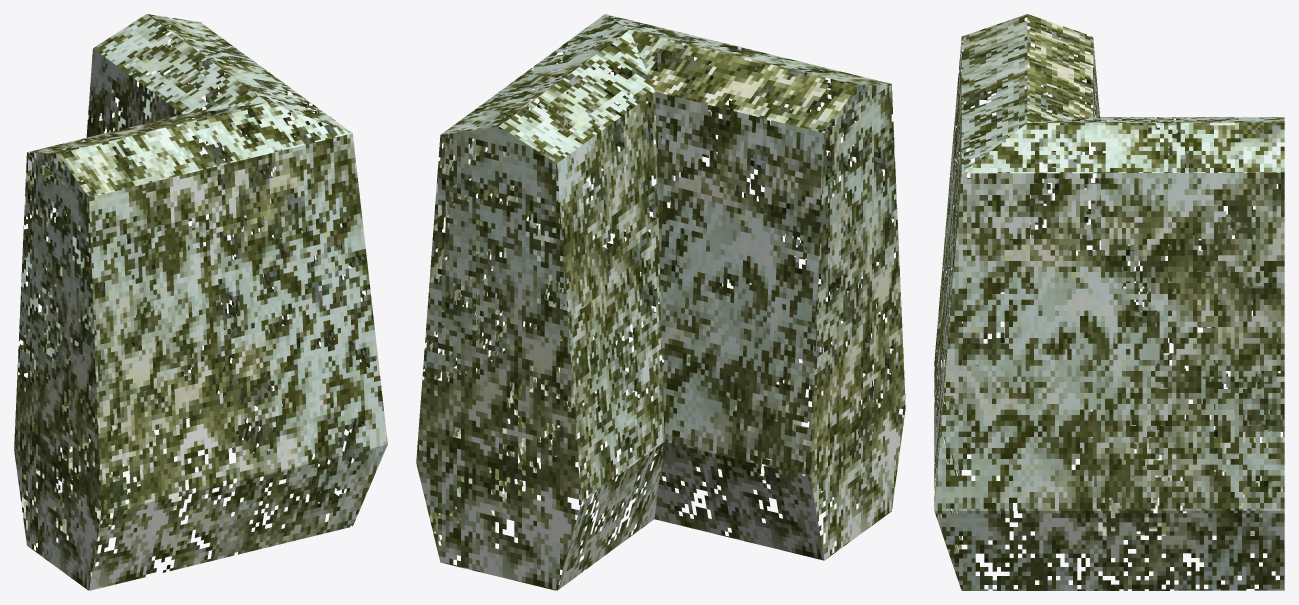
File: bush_long_square_corner_winter.glb
3 views of the same model, side by side, from view 1: azimuth 30°, elevation 25°; view 2: azimuth 150°, elevation 25°; view 3: azimuth 270°, elevation 25° (orthographic). The views are drawn at different scales.
Visible parts, largest first — view 1: bush_long_square_corner_winter; view 2: bush_long_square_corner_winter; view 3: bush_long_square_corner_winter.
Boxes of the visible parts, x1=… form: bush_long_square_corner_winter: x1=14, y1=14, x2=387, y2=590; bush_long_square_corner_winter: x1=416, y1=14, x2=905, y2=590; bush_long_square_corner_winter: x1=934, y1=14, x2=1284, y2=590.
Bounding box in the file's own units: 1.36 × 1.88 × 1.35.
Materials: 1 (1 with a texture image).
